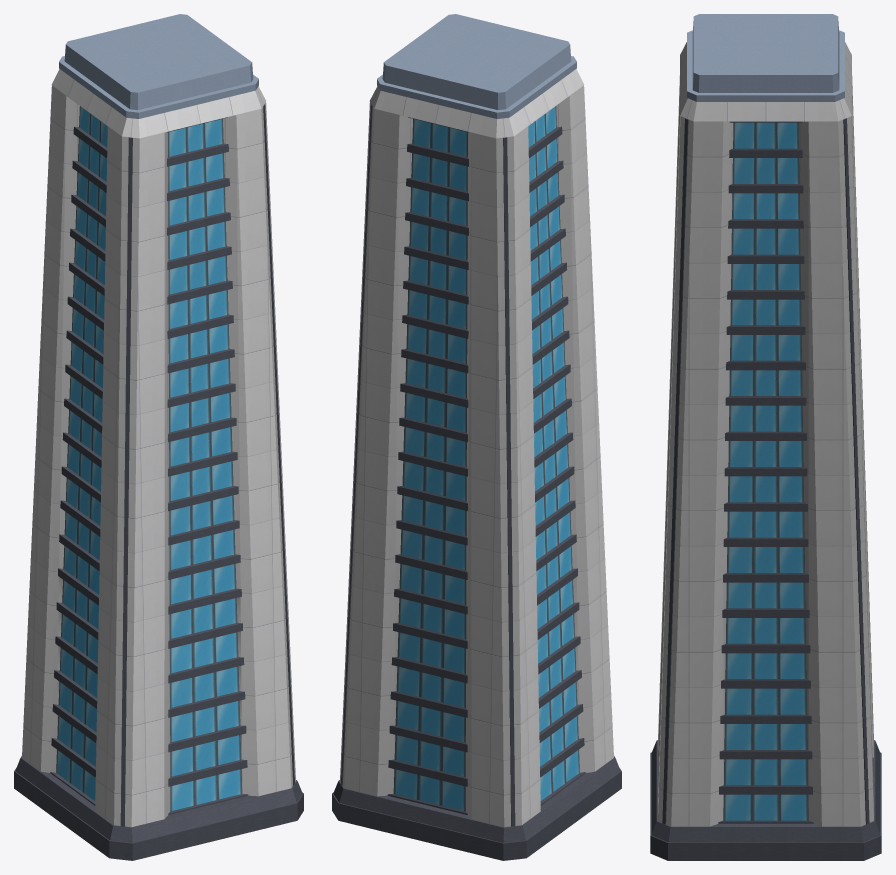
The model's file is houdini_glass_tower.glb.
3 views of the same model, side by side, from view 1: azimuth 30°, elevation 25°; view 2: azimuth 150°, elevation 25°; view 3: azimuth 270°, elevation 25° (orthographic). The views are drawn at different scales.
Parts seen in each view (by area): view 1: LOD0; view 2: LOD0; view 3: LOD0.
Boxes of the visible parts, box(x1,y1,x2,y2) form: LOD0: box(14, 14, 303, 860); LOD0: box(332, 14, 621, 860); LOD0: box(650, 14, 881, 860).
Size of what is drawn, in the model's own units: 17.4 by 63.8 by 17.4.
5 materials, 5 textured.
